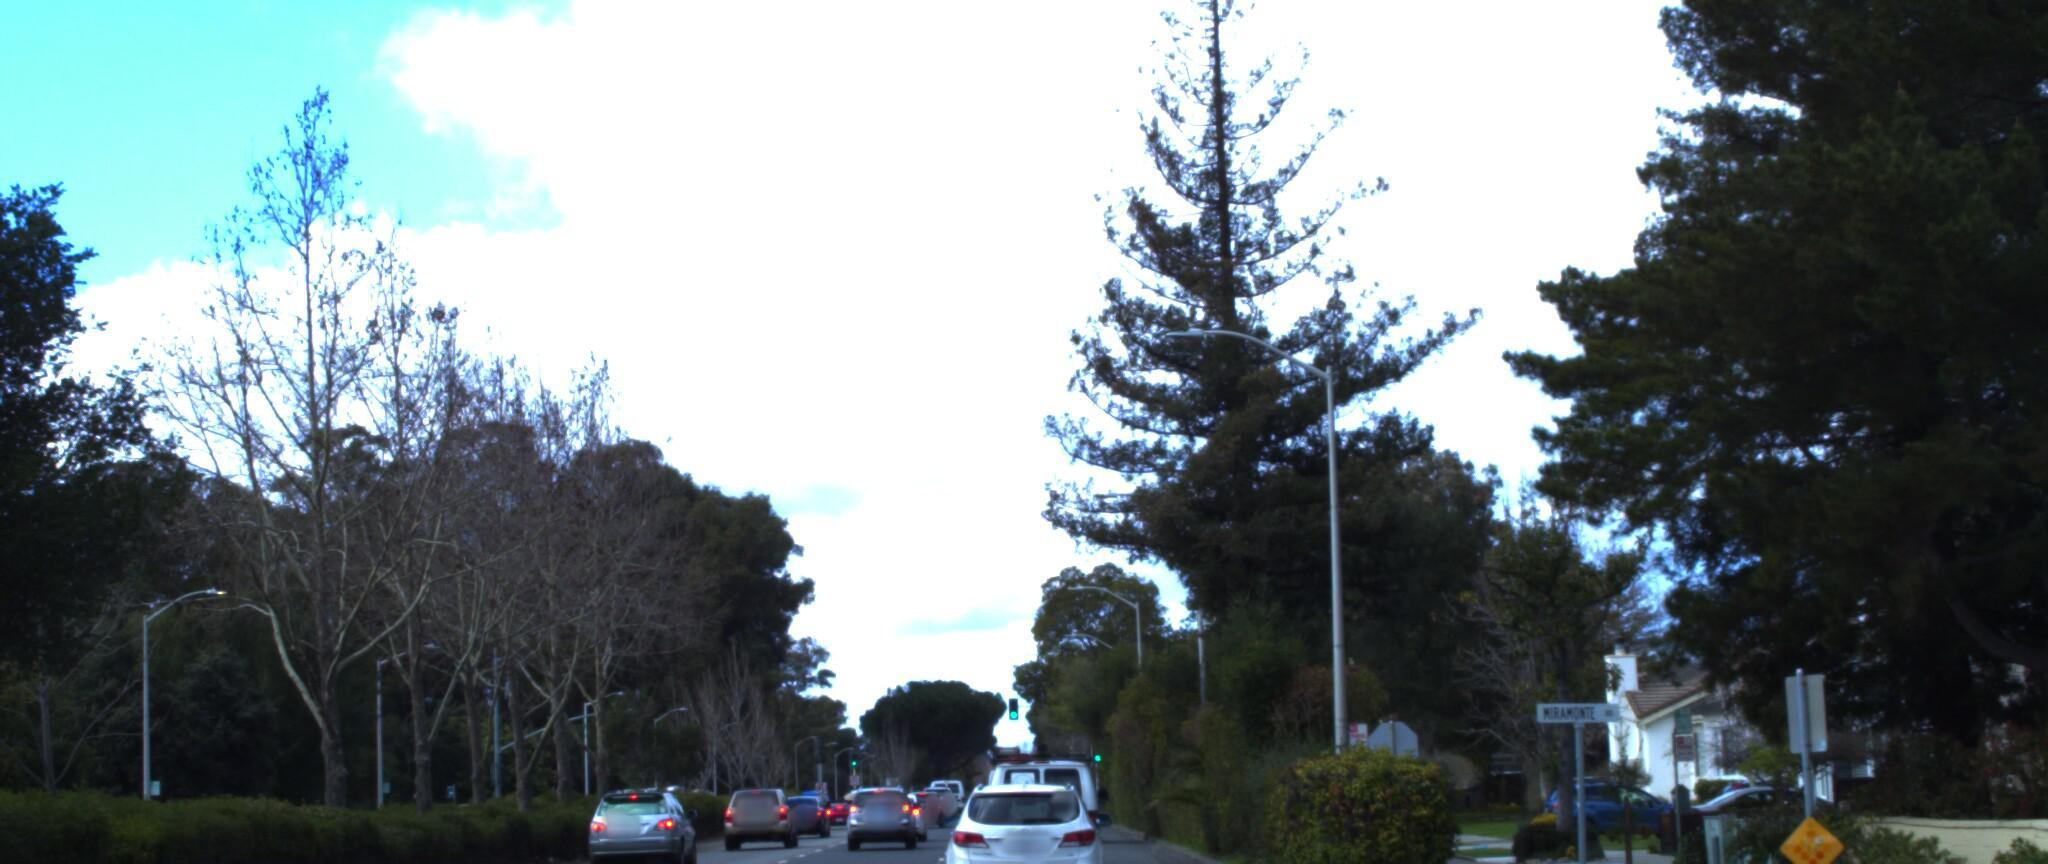car: (981, 713, 1122, 860), (938, 747, 1113, 864), (592, 760, 714, 857), (852, 754, 935, 827)
